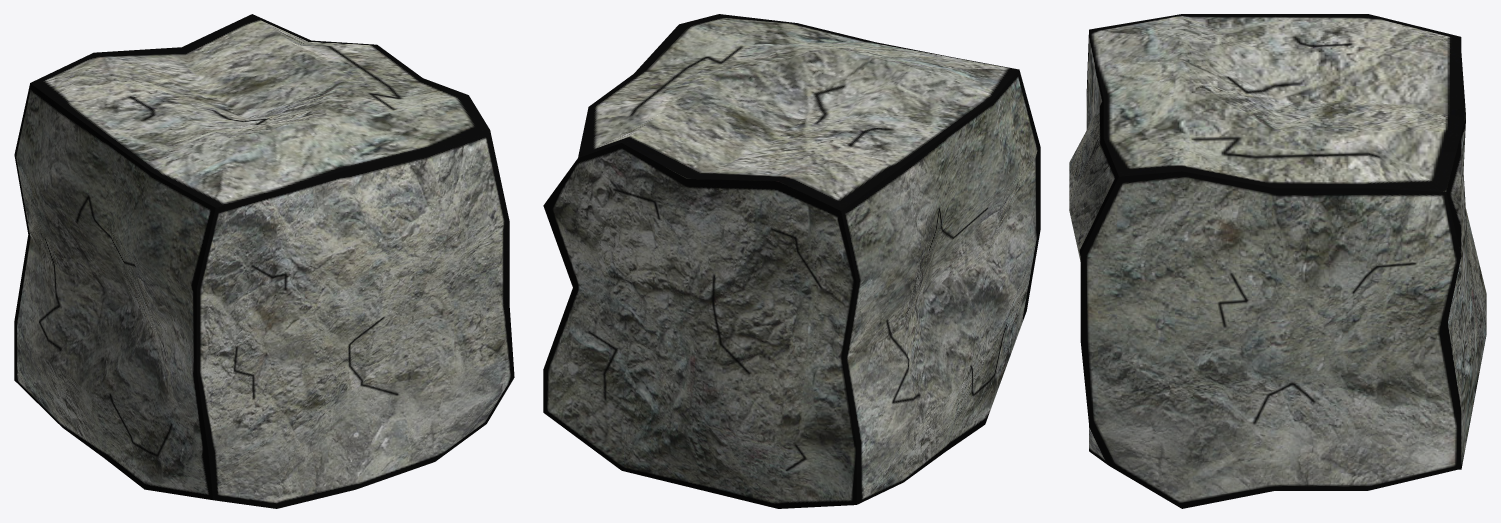
The model's file is Rock.FBX.
The picture shows the model from 3 angles, left to right: view 1: azimuth 30°, elevation 25°; view 2: azimuth 150°, elevation 25°; view 3: azimuth 270°, elevation 25°; orthographic projection. The views are drawn at different scales.
Parts seen in each view (by area): view 1: Box001; view 2: Box001; view 3: Box001.
Boxes of the visible parts, x1,y1,x2,y2 form: Box001: (14, 14, 514, 508); Box001: (543, 14, 1040, 508); Box001: (1069, 14, 1486, 508).
Size of the model in its own units: 6.88 by 6.74 by 7.08.
